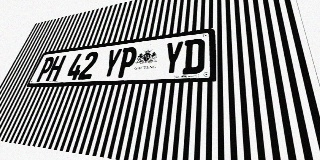2: (77, 51, 100, 80)
4: (65, 53, 87, 80)
D: (182, 38, 205, 74)
H: (45, 55, 67, 81)
P: (116, 46, 138, 78), (35, 56, 56, 82)
Y: (161, 40, 184, 76), (100, 48, 123, 79)
